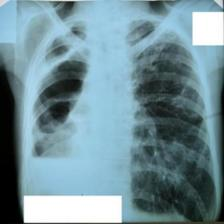tuberculosis: (20, 12, 218, 224)
